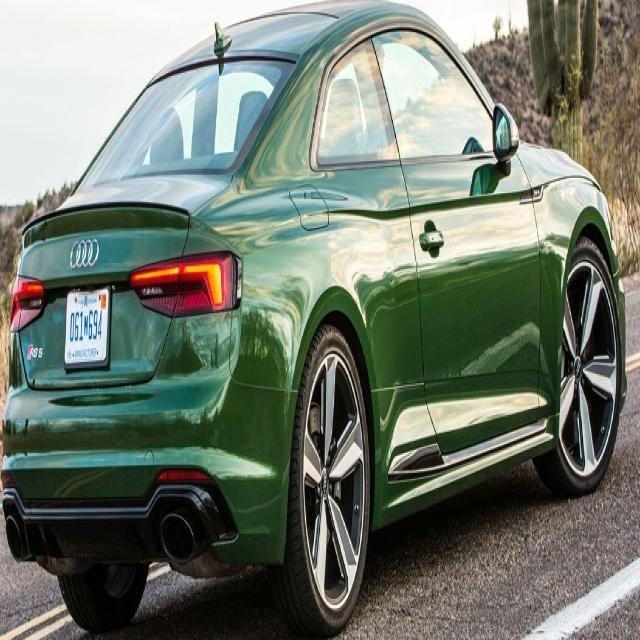green: (4, 2, 626, 628)
